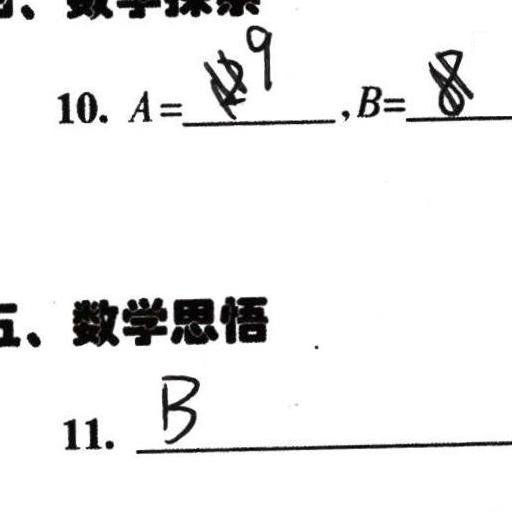ans: (156, 371, 201, 446), (244, 23, 275, 92)
